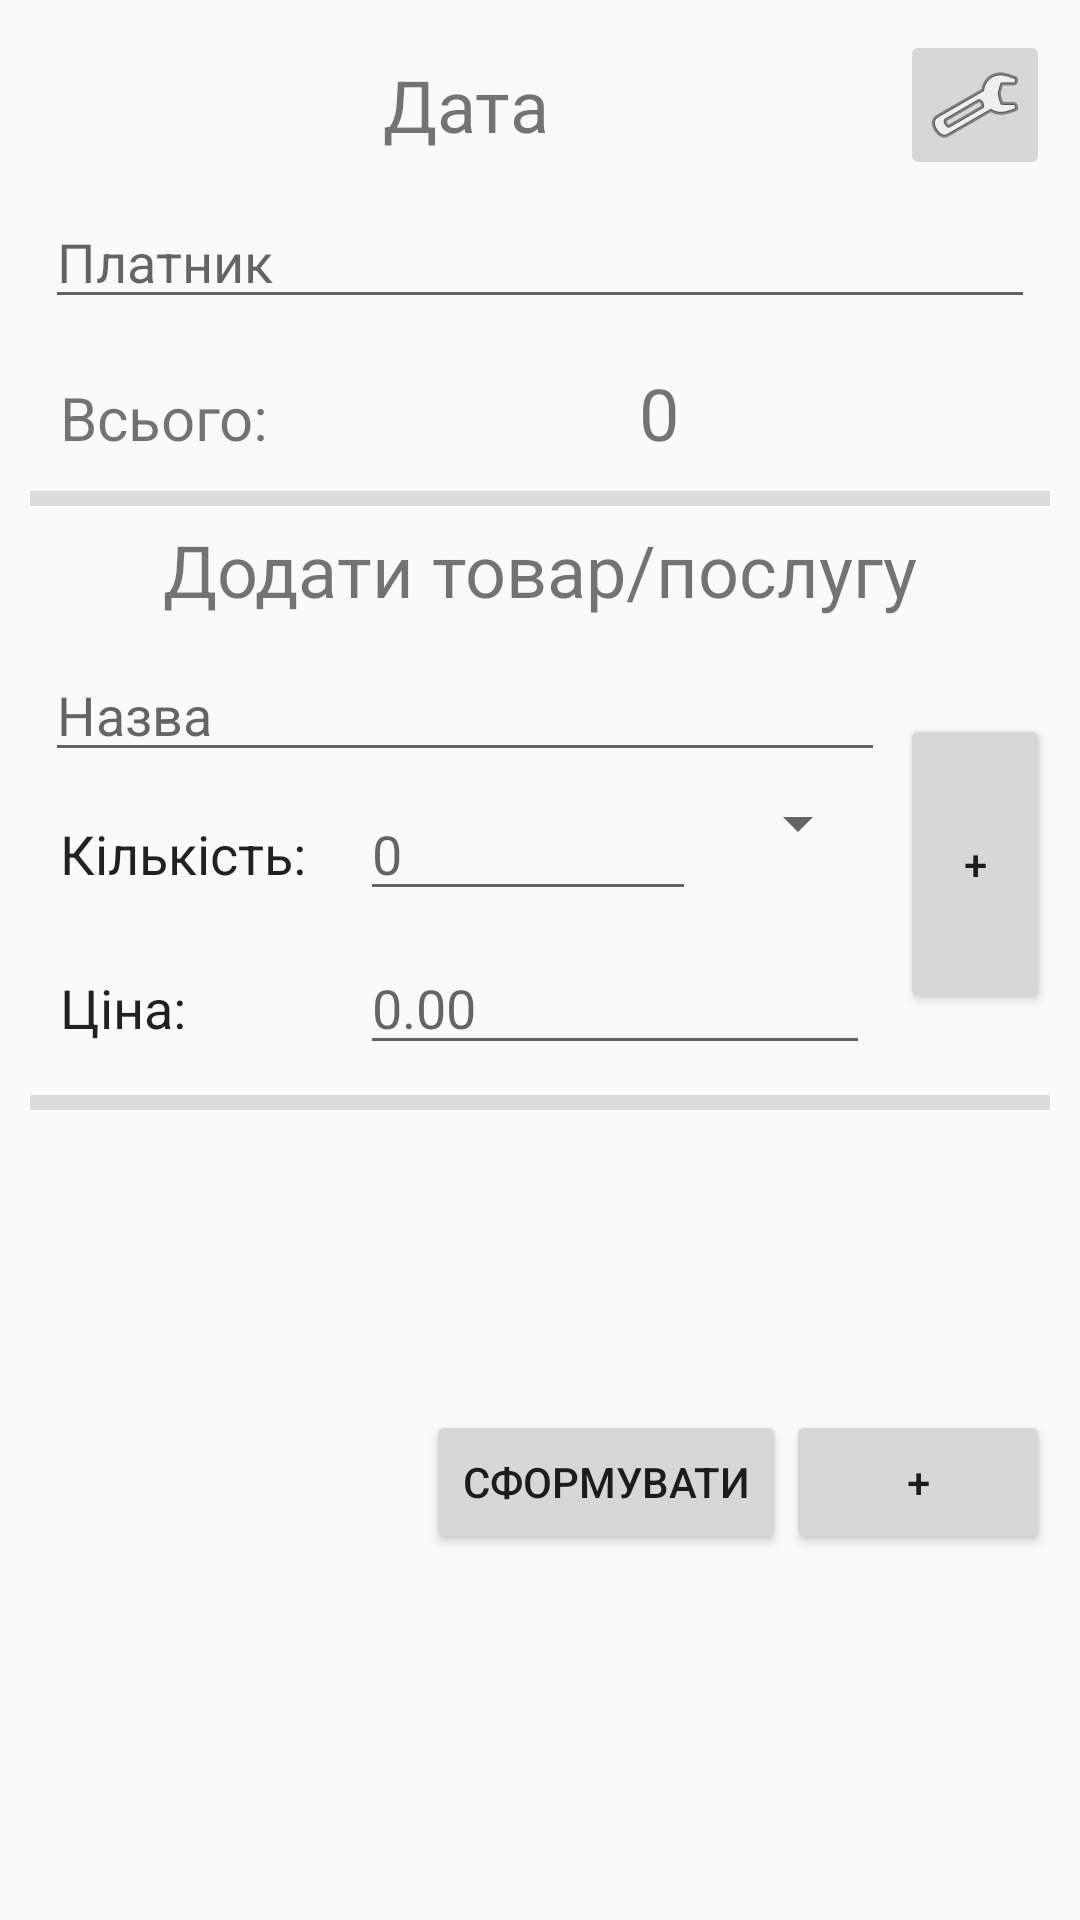

Icons on this 1080 x 1920 Android screen, each with its box as (x1, y1, x2, y2):
manage: (912, 48, 1038, 162)
